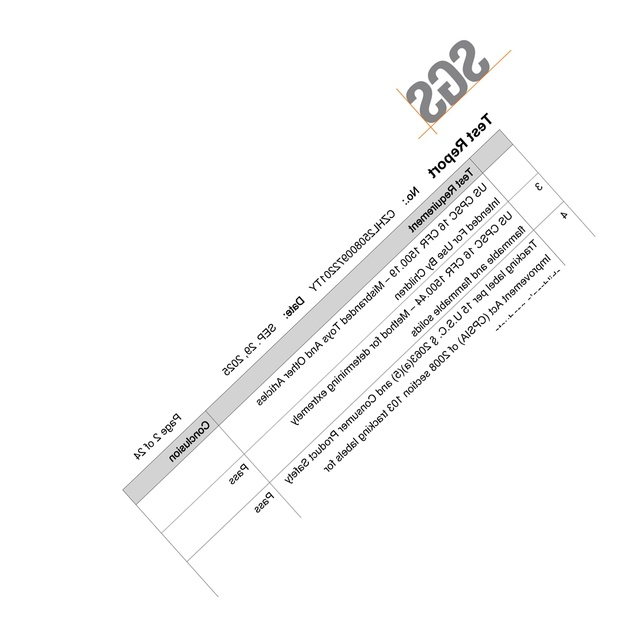sgs: (404, 38, 491, 123)
